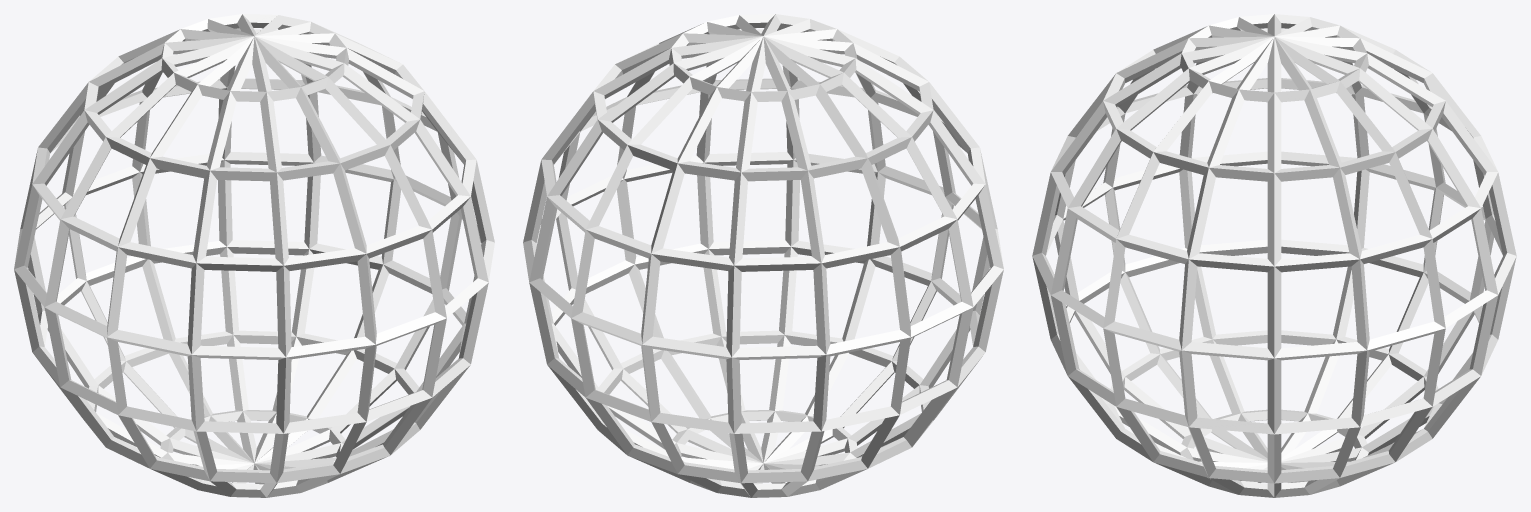
File: Shield.obj
The picture shows the model from 3 angles, left to right: view 1: azimuth 30°, elevation 25°; view 2: azimuth 150°, elevation 25°; view 3: azimuth 270°, elevation 25°; orthographic projection.
Parts seen in each view (by area): view 1: 球; view 2: 球; view 3: 球.
Part boxes in pixels (left/top/right/bottom): 球: left=14, top=14, right=494, bottom=497; 球: left=523, top=14, right=1003, bottom=497; 球: left=1032, top=14, right=1516, bottom=497.
Size of the model in its own units: 1.03 by 1.03 by 1.03.
1 material, 1 textured.
